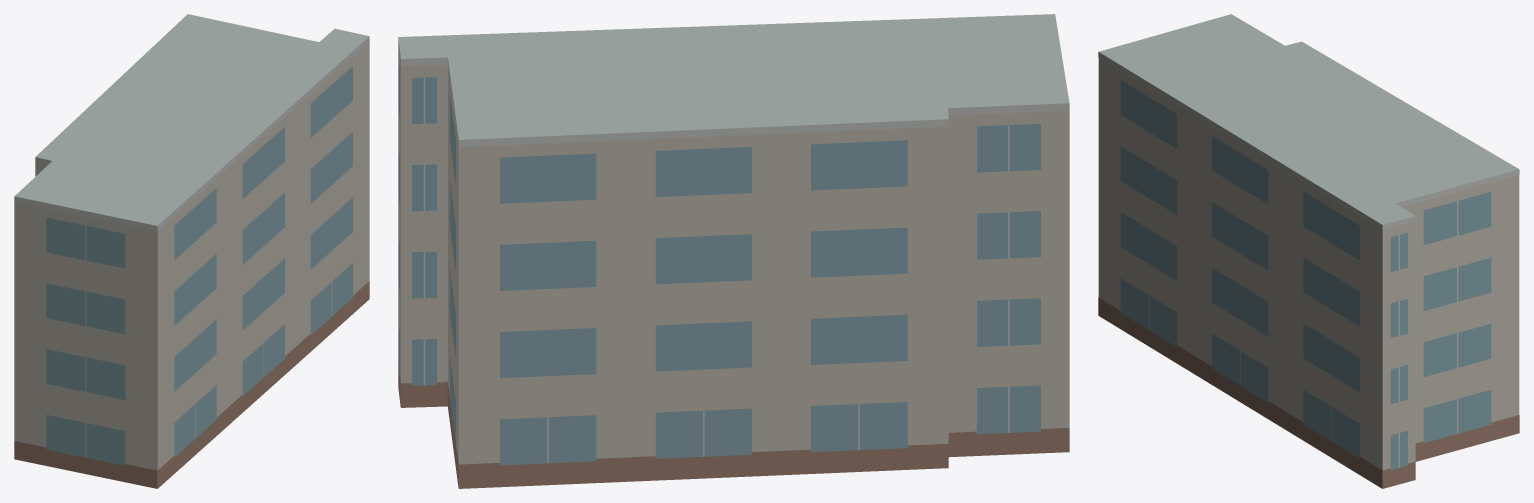
The model's file is survey-upis-32726381.glb.
3 views of the same model, side by side, from view 1: azimuth 30°, elevation 25°; view 2: azimuth 150°, elevation 25°; view 3: azimuth 270°, elevation 25° (orthographic). The views are drawn at different scales.
Parts seen in each view (by area): view 1: survey-upis-32726381.tmp; view 2: survey-upis-32726381.tmp; view 3: survey-upis-32726381.tmp.
Part boxes in pixels (x1,y1,x2,y2): survey-upis-32726381.tmp: (14, 14, 369, 488); survey-upis-32726381.tmp: (398, 14, 1069, 488); survey-upis-32726381.tmp: (1098, 14, 1519, 488).
Bounding box in the file's own units: 19.89 × 11.6 × 16.77.
